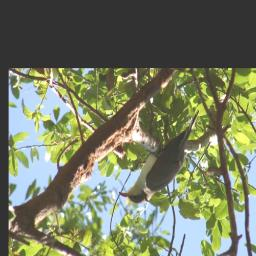Cuckoo: (117, 109, 198, 204)
